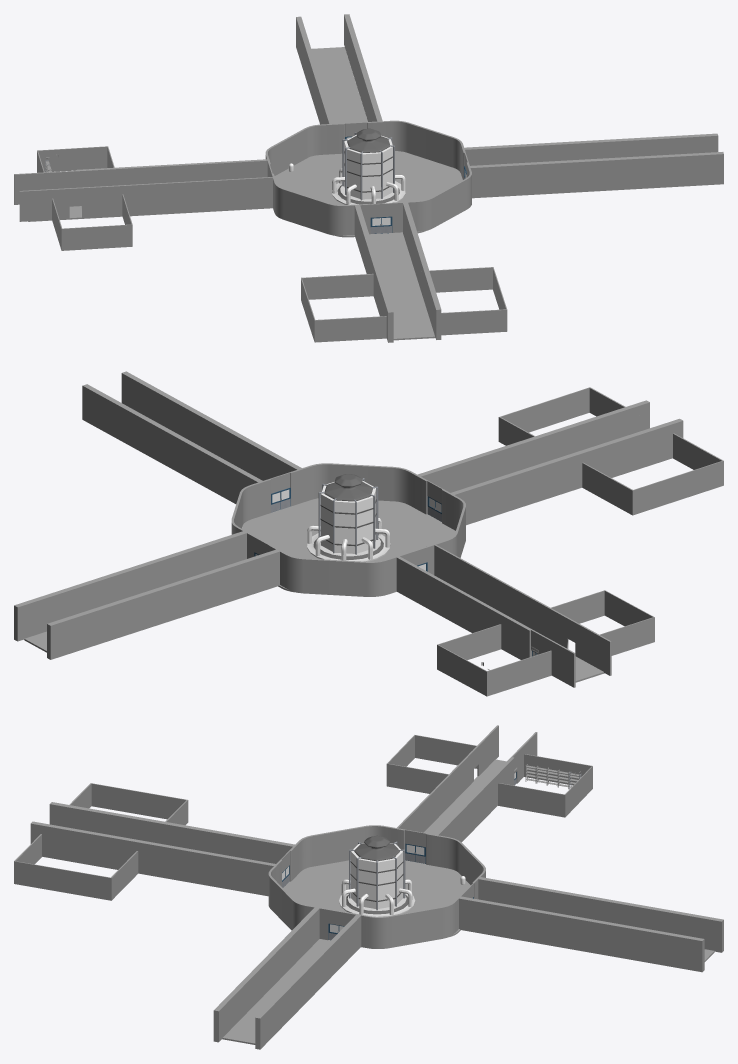
Rendered from layout mayb.fbx.
The picture shows the model from 3 angles, top to bottom: view 1: azimuth 30°, elevation 25°; view 2: azimuth 150°, elevation 25°; view 3: azimuth 270°, elevation 25°; orthographic projection. The views are drawn at different scales.
Visible parts, largest first — view 1: polySurface138, polySurface17, polySurface139, polySurface137, polySurface133, polySurface136, pCube67 (×2), pCube66 (×2), polySurface132, pCylinder12, polySurface140, pCube65 (+4 smaller); view 2: polySurface137, polySurface138, polySurface139, polySurface17, polySurface133, pCube68 (×2), pCylinder12, pCube67 (×2), pCube52, pCube66 (×2), polySurface140, pCube53 (+7 smaller); view 3: polySurface139, polySurface138, polySurface17, polySurface137, polySurface133, pCube68 (×2), pCylinder12, polySurface134, pCube54, pCube64, pCube63, pCube52 (+7 smaller).
Part boxes in pixels (box(x1,y1,x2,y2)): polySurface138: box(392, 152, 723, 339); polySurface17: box(81, 164, 393, 342); polySurface139: box(344, 14, 718, 179); polySurface137: box(75, 16, 344, 187); polySurface133: box(274, 151, 462, 237); polySurface136: box(369, 233, 435, 340); pCube67 (×2): box(302, 273, 506, 335); pCube66 (×2): box(315, 267, 492, 342); polySurface132: box(311, 47, 367, 123); pCylinder12: box(344, 134, 392, 199); polySurface140: box(19, 187, 81, 221); pCube65: box(61, 224, 132, 250); polySurface137: box(47, 545, 531, 659); polySurface138: box(121, 371, 649, 514); polySurface139: box(14, 384, 290, 641); polySurface17: box(407, 418, 683, 648); polySurface133: box(242, 498, 455, 595); pCube68 (×2): box(498, 387, 723, 515); pCylinder12: box(321, 480, 376, 553); pCube67 (×2): box(582, 387, 640, 514); pCube52: box(487, 650, 551, 695); pCube66 (×2): box(499, 417, 722, 469); polySurface140: box(567, 617, 611, 675); pCube53: box(437, 644, 487, 696); polySurface139: box(255, 883, 704, 1049); polySurface138: box(30, 821, 328, 1042); polySurface17: box(49, 750, 473, 881); polySurface137: box(426, 757, 723, 952); polySurface133: box(283, 860, 470, 948); pCube68 (×2): box(14, 783, 188, 900); pCylinder12: box(351, 843, 403, 908); polySurface134: box(222, 939, 330, 1044); pCube54: box(498, 783, 564, 817); pCube64: box(415, 735, 477, 768); pCube63: box(387, 763, 448, 793); pCube52: box(524, 754, 591, 785).
Size of what is drawn, in the model's own units: 13573 by 1399 by 13885.
